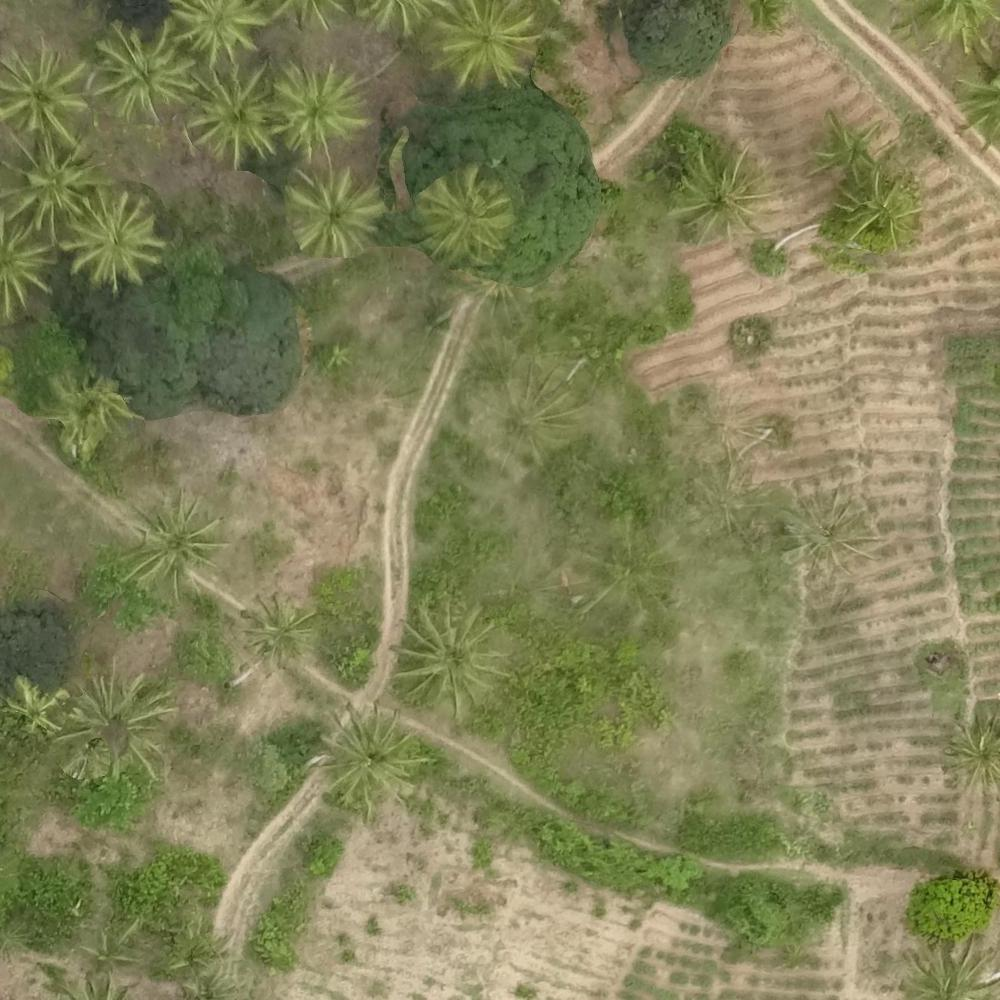Palm: (395, 601, 516, 712), (69, 675, 170, 780), (91, 24, 194, 118), (183, 67, 279, 165), (62, 194, 163, 286), (322, 708, 417, 805), (1, 138, 96, 233), (431, 4, 534, 88), (670, 149, 764, 239), (1, 47, 89, 143), (284, 169, 378, 258), (418, 174, 511, 261), (274, 62, 362, 150), (133, 500, 218, 590), (36, 372, 130, 450), (834, 177, 916, 248), (176, 1, 256, 68), (813, 112, 891, 180), (238, 597, 312, 661), (941, 711, 1000, 784), (3, 677, 67, 742)
